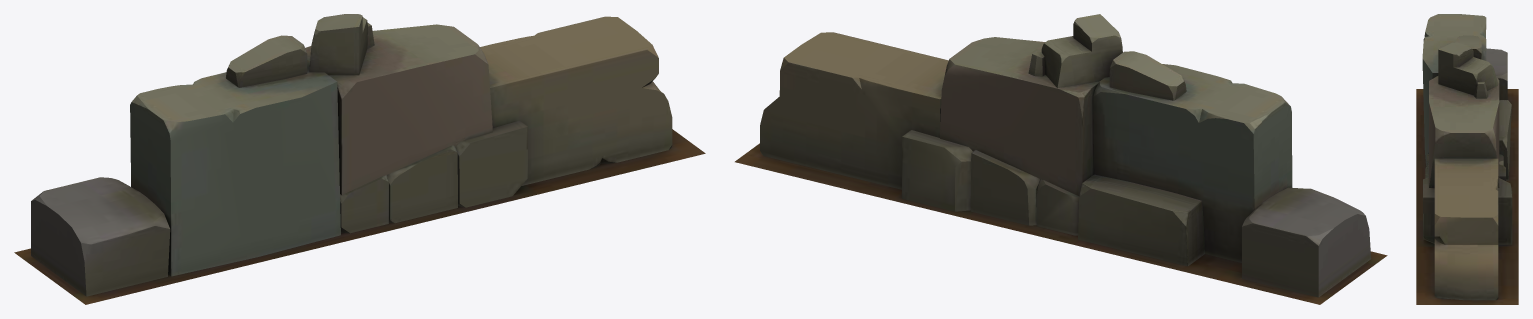
Rendered from OBJ_MIDRock_01.obj.
3 views of the same model, side by side, from view 1: azimuth 30°, elevation 25°; view 2: azimuth 150°, elevation 25°; view 3: azimuth 270°, elevation 25° (orthographic). The views are drawn at different scales.
Parts seen in each view (by area): view 1: OBJ_MIDRock_01; view 2: OBJ_MIDRock_01; view 3: OBJ_MIDRock_01.
Boxes of the visible parts, x1,y1,x2,y2 form: OBJ_MIDRock_01: (14,14,705,304); OBJ_MIDRock_01: (735,14,1387,304); OBJ_MIDRock_01: (1416,14,1518,304).
Bounding box in the file's own units: 6 × 1.85 × 1.2.
1 material, 1 textured.
